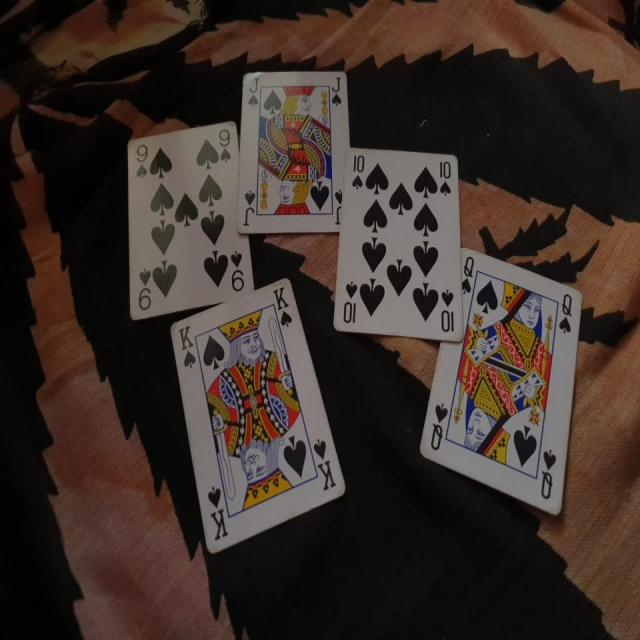10 Spades: (334, 137, 471, 358)
9 Spades: (111, 118, 258, 335)
J Spades: (239, 63, 354, 240)
K Spades: (169, 273, 347, 573)
Q Spades: (417, 246, 590, 531)
